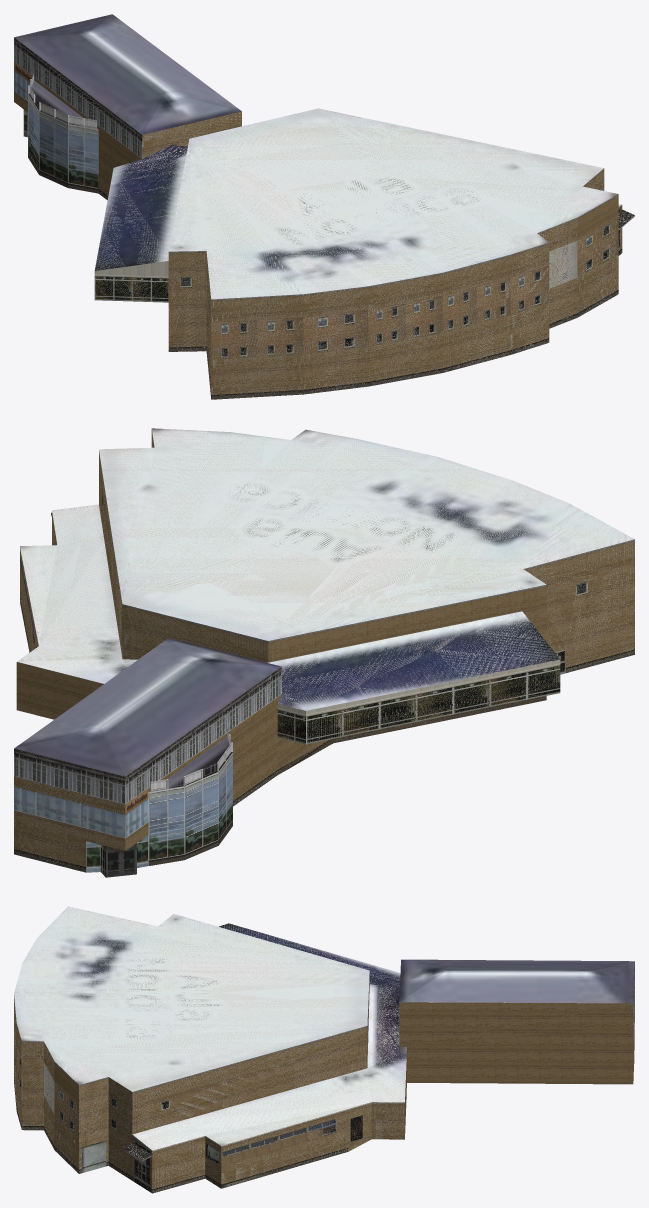
File: aulanordica.dae
3 views of the same model, one above another, from view 1: azimuth 30°, elevation 25°; view 2: azimuth 150°, elevation 25°; view 3: azimuth 270°, elevation 25° (orthographic). The views are drawn at different scales.
Visible parts, largest first — view 1: SketchUp (×16); view 2: SketchUp (×20); view 3: SketchUp (×17).
Part boxes in pixels (x1=…): SketchUp (×16): x1=14, y1=14, x2=621, y2=399; SketchUp (×20): x1=14, y1=428, x2=634, y2=877; SketchUp (×17): x1=14, y1=906, x2=634, y2=1193.
Size of the model in its own units: 2051 by 2534 by 437.
45 materials, 44 textured.
